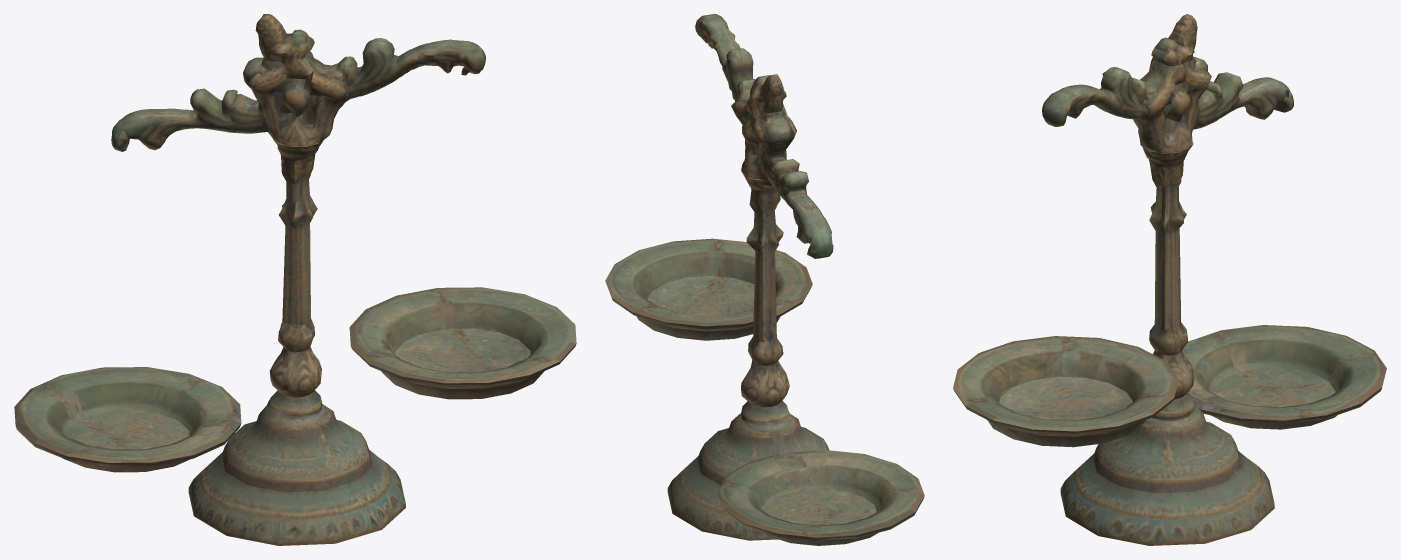
Rendered from Scale.fbx.
3 views of the same model, side by side, from view 1: azimuth 30°, elevation 25°; view 2: azimuth 150°, elevation 25°; view 3: azimuth 270°, elevation 25° (orthographic). The views are drawn at different scales.
Visible parts, largest first — view 1: Scale_Low; view 2: Scale_Low; view 3: Scale_Low.
Part boxes in pixels (<box>): Scale_Low: <box>14,14,576,545</box>; Scale_Low: <box>605,14,924,545</box>; Scale_Low: <box>953,14,1386,545</box>.
Size of the model in its own units: 1.02 by 1.1 by 0.9103.
